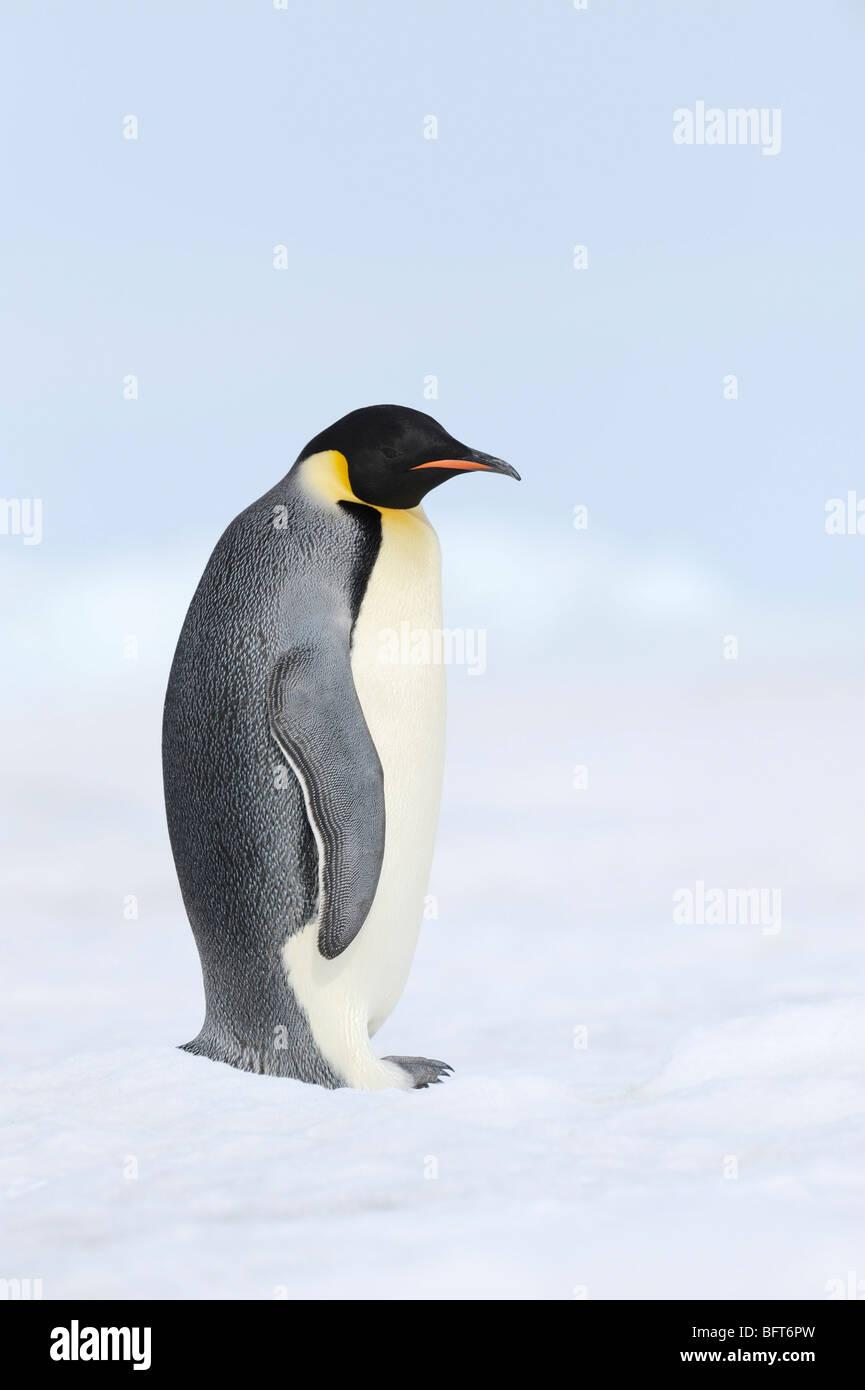emporer: (108, 357, 603, 1150)
